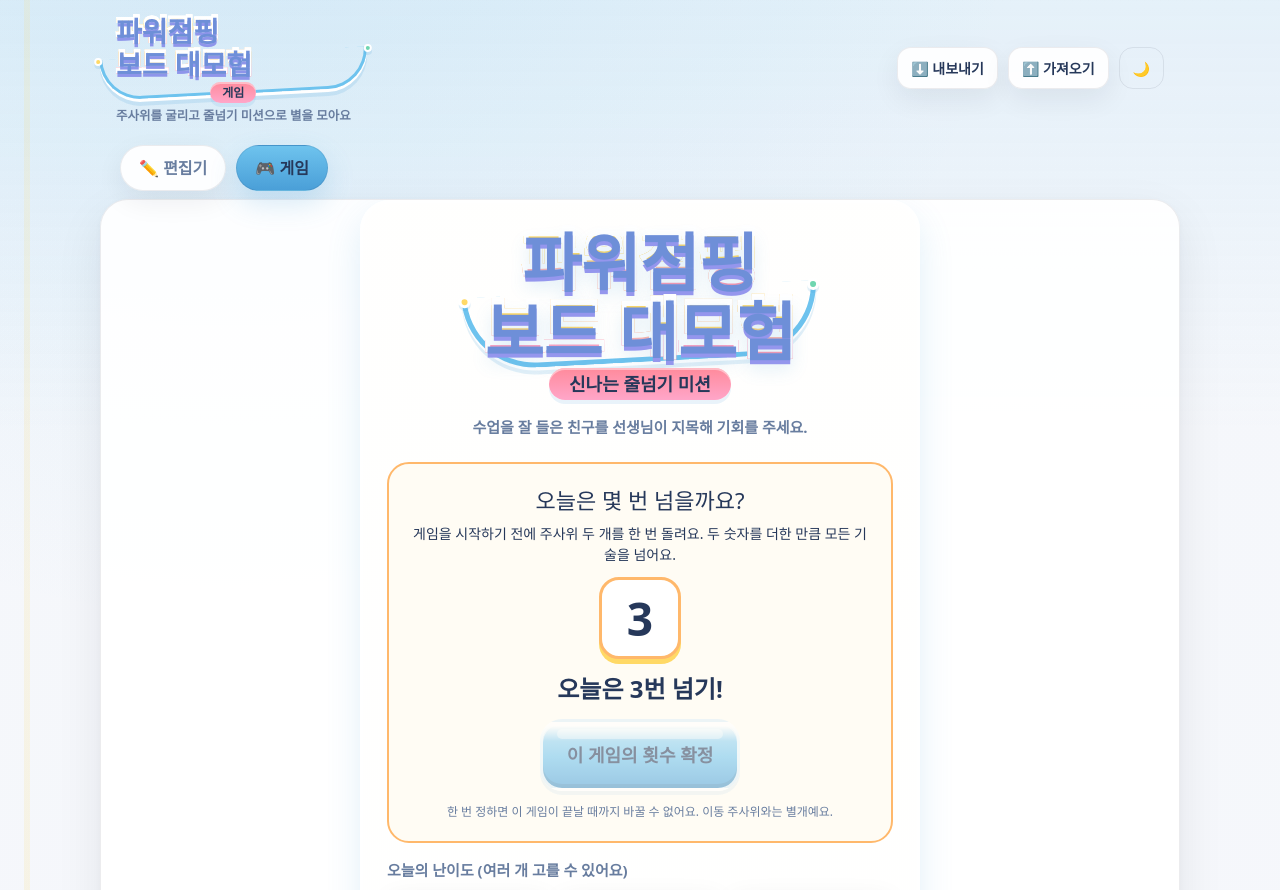
it: XSS safety — user text renders escaped › renders angle-bracket markup as literal text, not injected DOM
Click the button "✏️ 편집기".
click(173, 168)  # box [120,145,226,191]
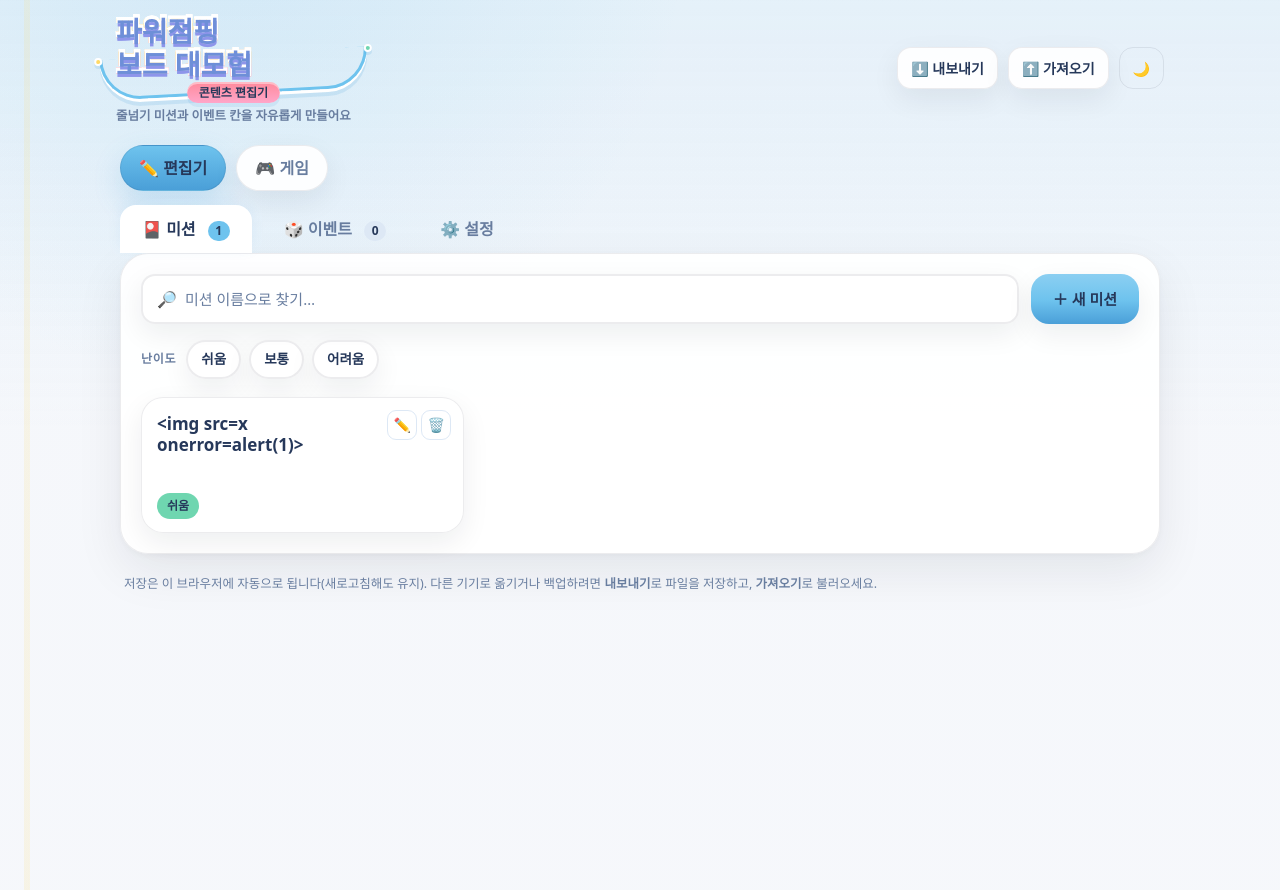
expect the text "<img src=x onerror=alert(1)>" is shown: met, box [157,412,303,456]
